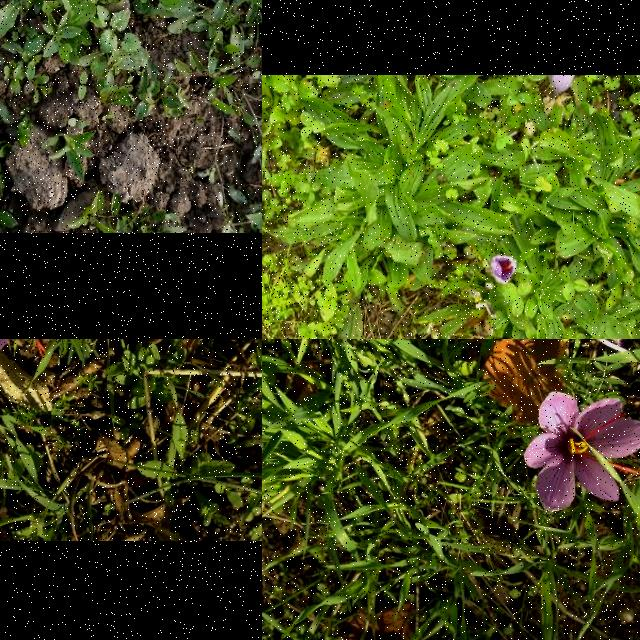flower: (524, 392, 640, 511), (489, 254, 518, 286), (549, 75, 575, 98)
